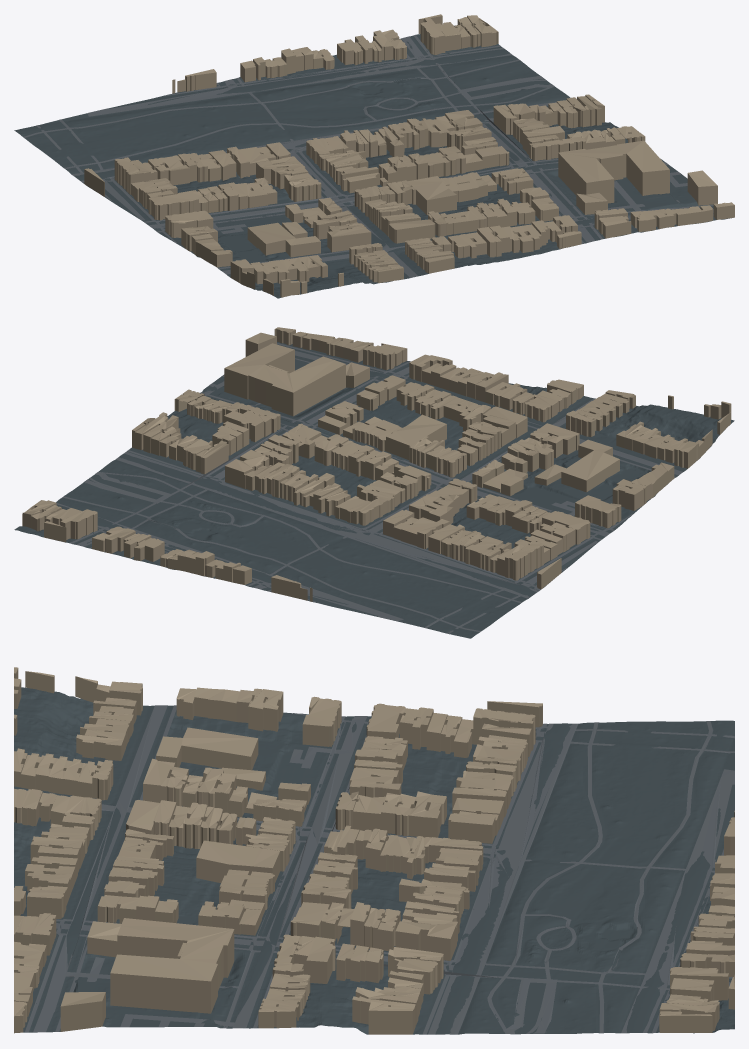
Rendered from epsg26910-1428-10887.lod0.glb.
The picture shows the model from 3 angles, top to bottom: view 1: azimuth 30°, elevation 25°; view 2: azimuth 150°, elevation 25°; view 3: azimuth 270°, elevation 25°; orthographic projection. The views are drawn at different scales.
Parts seen in each view (by area): view 1: epsg26910-1428-10887-lod0; view 2: epsg26910-1428-10887-lod0; view 3: epsg26910-1428-10887-lod0.
Part boxes in pixels (bbox=[...]): epsg26910-1428-10887-lod0: bbox=[14, 14, 734, 298]; epsg26910-1428-10887-lod0: bbox=[14, 327, 734, 638]; epsg26910-1428-10887-lod0: bbox=[14, 667, 734, 1034].
Size of the model in its own units: 384 by 38.44 by 384.
